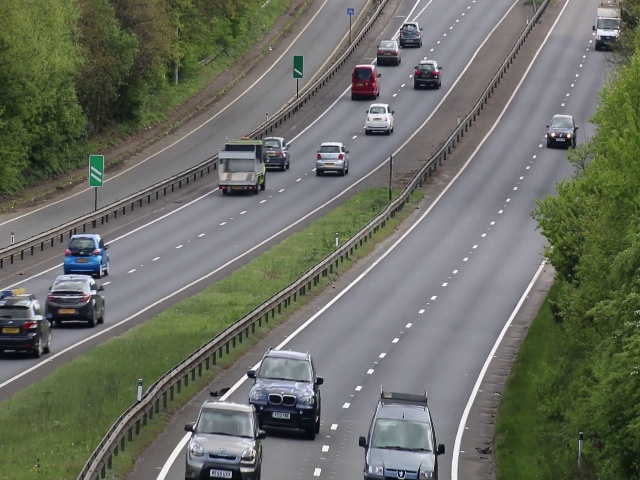car: (359, 389, 444, 480), (250, 346, 322, 440), (186, 395, 265, 480), (1, 287, 52, 360), (45, 272, 105, 327), (219, 134, 267, 195), (61, 234, 112, 278), (594, 1, 626, 54), (545, 110, 579, 150), (315, 141, 351, 177), (352, 63, 380, 101), (364, 101, 394, 135), (413, 59, 442, 92), (265, 137, 291, 172), (399, 18, 422, 49), (377, 37, 400, 65)
